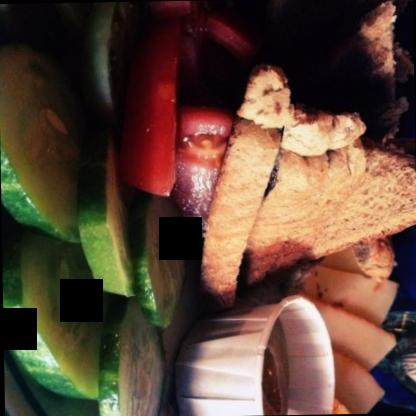cucumber: (1, 232, 116, 406), (0, 38, 91, 249), (71, 137, 142, 302), (88, 302, 171, 415), (133, 191, 191, 326)
